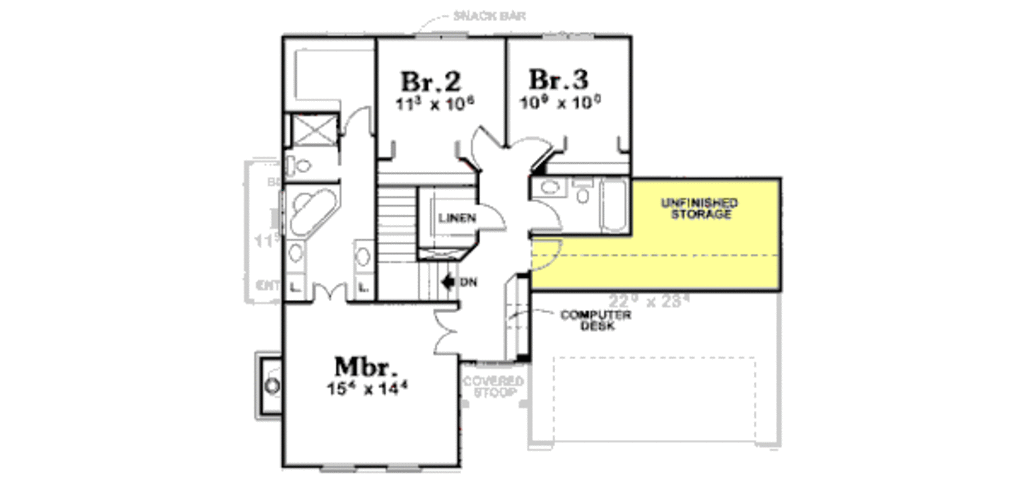door: (510, 131, 556, 173), (425, 306, 462, 358), (464, 120, 503, 165), (472, 203, 514, 239), (530, 200, 567, 237), (342, 101, 373, 142), (528, 237, 562, 274), (312, 281, 350, 306)
large_sink: (570, 173, 603, 207), (276, 152, 314, 181)
small_sink: (344, 238, 378, 275), (528, 174, 569, 202), (277, 237, 304, 277)
stairs: (372, 184, 461, 301)
tub: (287, 183, 343, 242), (598, 178, 629, 235)
window: (313, 461, 425, 477), (406, 30, 478, 47), (541, 28, 597, 47)
